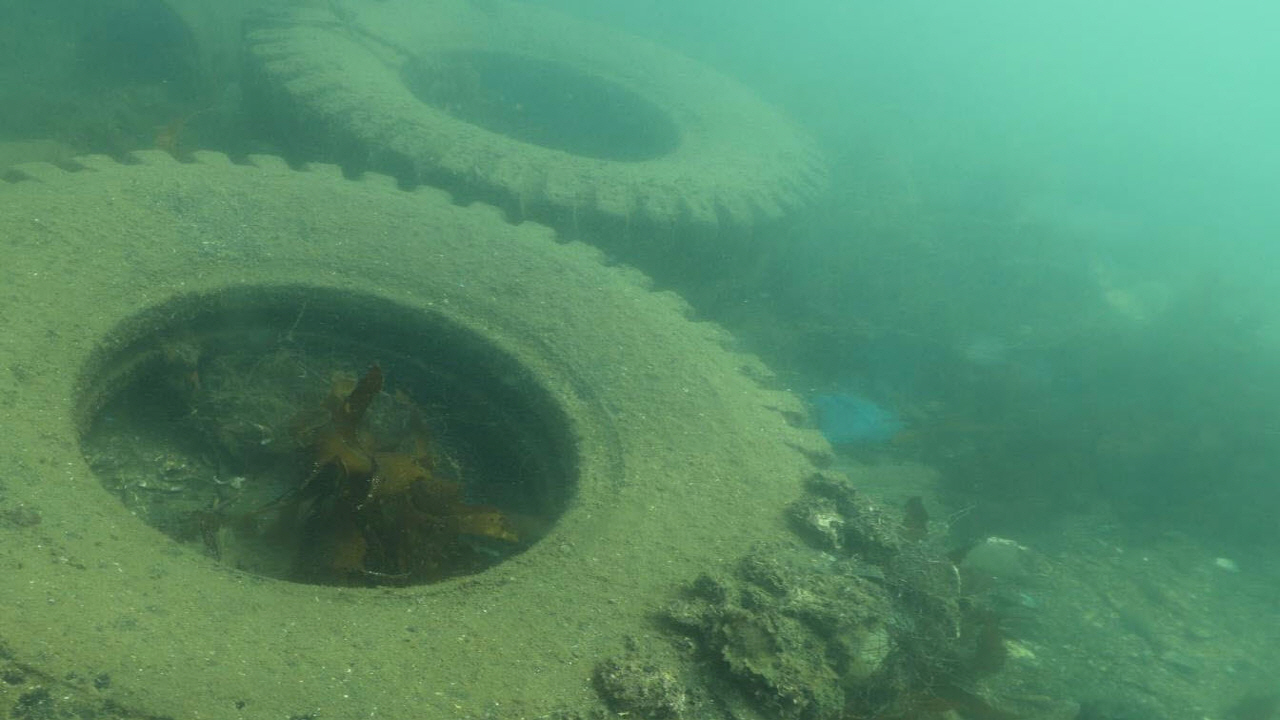tire: (0, 147, 847, 720), (242, 1, 831, 322)
